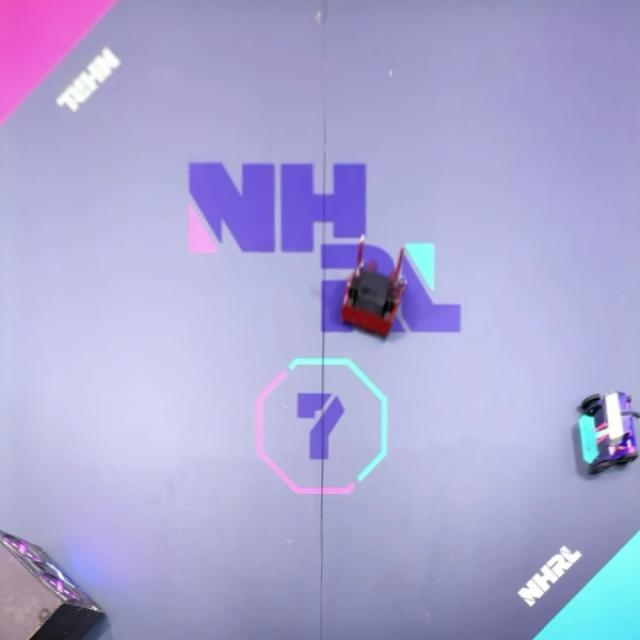housebot: (0, 525, 108, 640)
robot: (340, 233, 407, 340), (573, 390, 640, 478)
